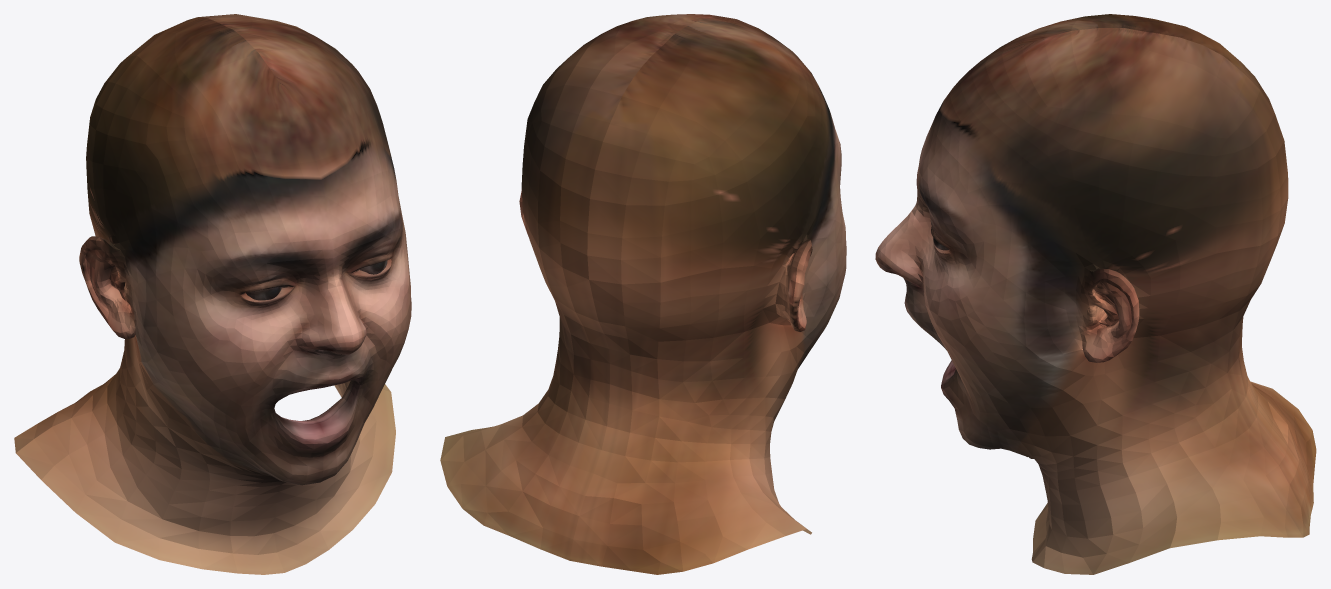
The model's file is IMG_0392_inputs.obj.
The picture shows the model from 3 angles, left to right: view 1: azimuth 30°, elevation 25°; view 2: azimuth 150°, elevation 25°; view 3: azimuth 270°, elevation 25°; orthographic projection. The views are drawn at different scales.
Size of the model in its own units: 0.2272 by 0.3193 by 0.2445.
